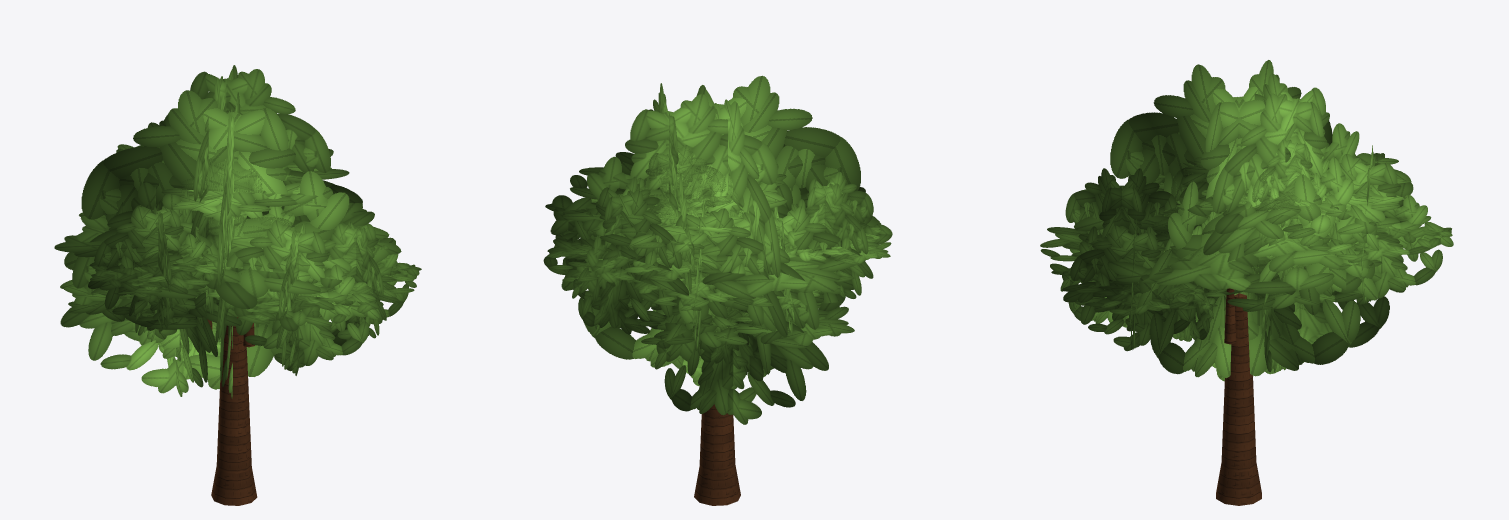
The model's file is flora_oak.glb.
3 views of the same model, side by side, from view 1: azimuth 30°, elevation 25°; view 2: azimuth 150°, elevation 25°; view 3: azimuth 270°, elevation 25° (orthographic). The views are drawn at different scales.
Parts seen in each view (by area): view 1: CrownFar, Crown, Trunk; view 2: CrownFar, Crown, Trunk; view 3: CrownFar, Crown, Trunk.
Boxes of the visible parts, x1=… form: CrownFar: x1=54, y1=65, x2=401, y2=398; Crown: x1=88, y1=134, x2=421, y2=375; Trunk: x1=207, y1=317, x2=257, y2=505; CrownFar: x1=545, y1=75, x2=880, y2=424; Crown: x1=543, y1=130, x2=892, y2=369; Trunk: x1=694, y1=404, x2=740, y2=505; CrownFar: x1=1074, y1=60, x2=1413, y2=381; Crown: x1=1040, y1=132, x2=1453, y2=351; Trunk: x1=1216, y1=288, x2=1261, y2=505.
Size of the model in its own units: 8.92 by 8.12 by 8.92.
Materials: 2 (2 with a texture image).
